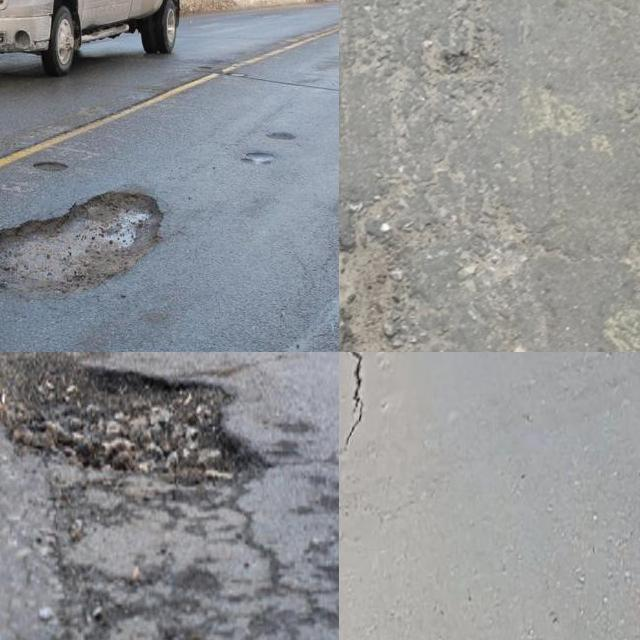Lubang: (0, 356, 242, 489), (0, 188, 162, 306), (339, 221, 439, 352)
